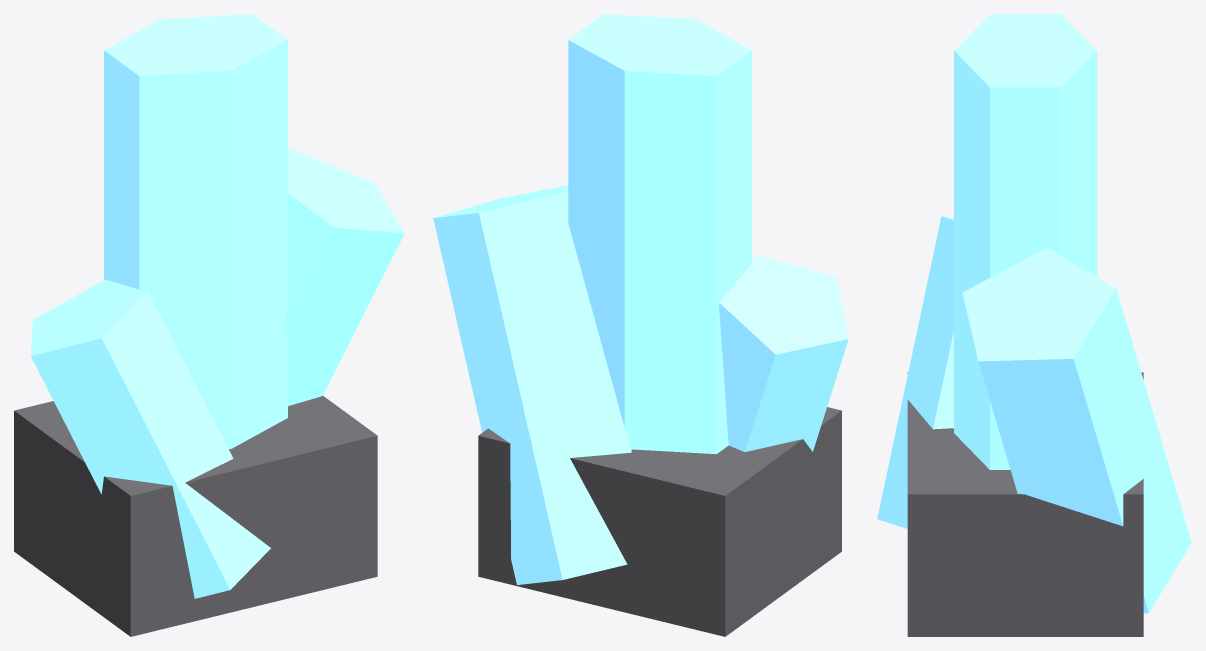
File: RimefrostCrystalShard.glb
3 views of the same model, side by side, from view 1: azimuth 30°, elevation 25°; view 2: azimuth 150°, elevation 25°; view 3: azimuth 270°, elevation 25° (orthographic).
Visible parts, largest first — view 1: RimefrostCrystalShard; view 2: RimefrostCrystalShard; view 3: RimefrostCrystalShard.
Part boxes in pixels (box(x1,y1,x2,y2)): RimefrostCrystalShard: box(14, 14, 404, 636); RimefrostCrystalShard: box(433, 14, 848, 636); RimefrostCrystalShard: box(877, 14, 1191, 636).
Size of the model in its own units: 1.86 by 2.47 by 1.32.
